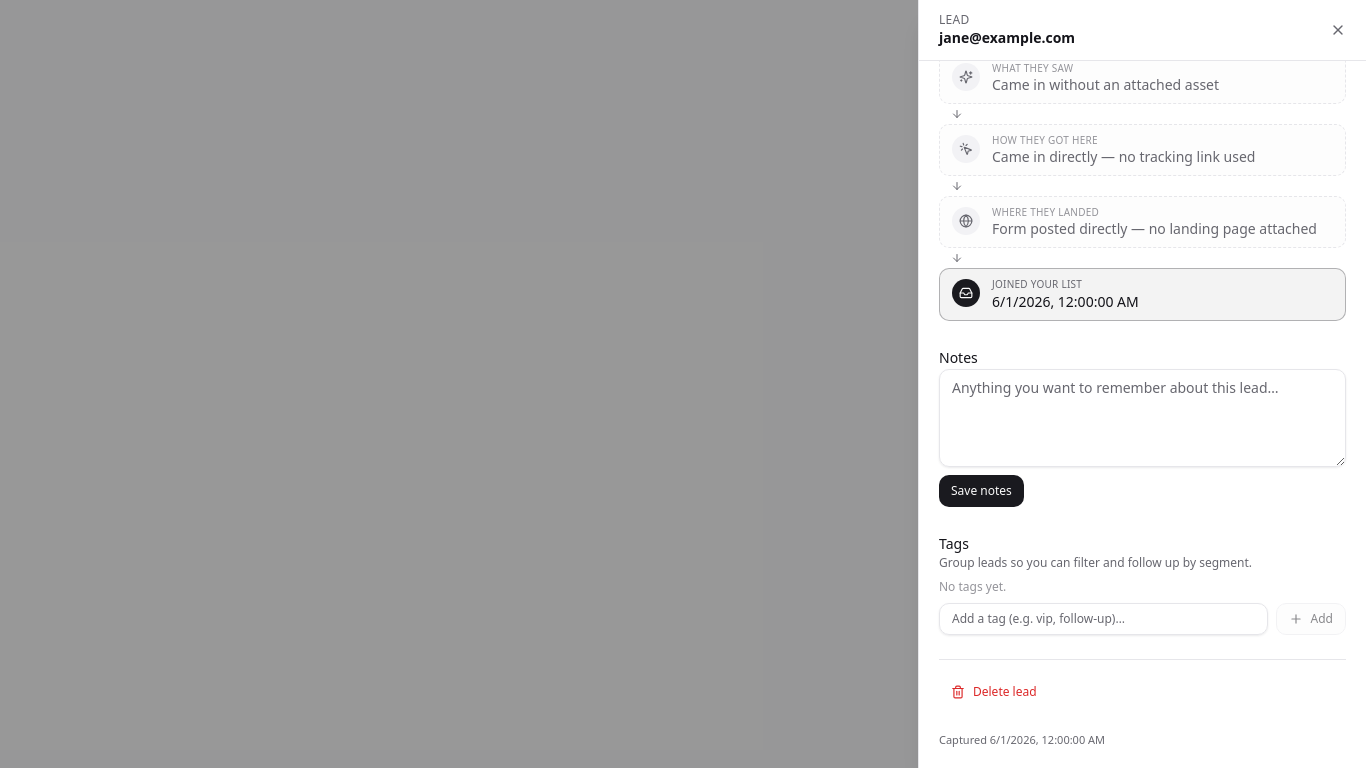
Test: LeadDrawer — tags › adds a tag (lowercased) and persists via api.leads.update
(page scrolled)
Type "VIP" into the field labelled "Tags" at point(1103, 619), box [939,603,1268,635]
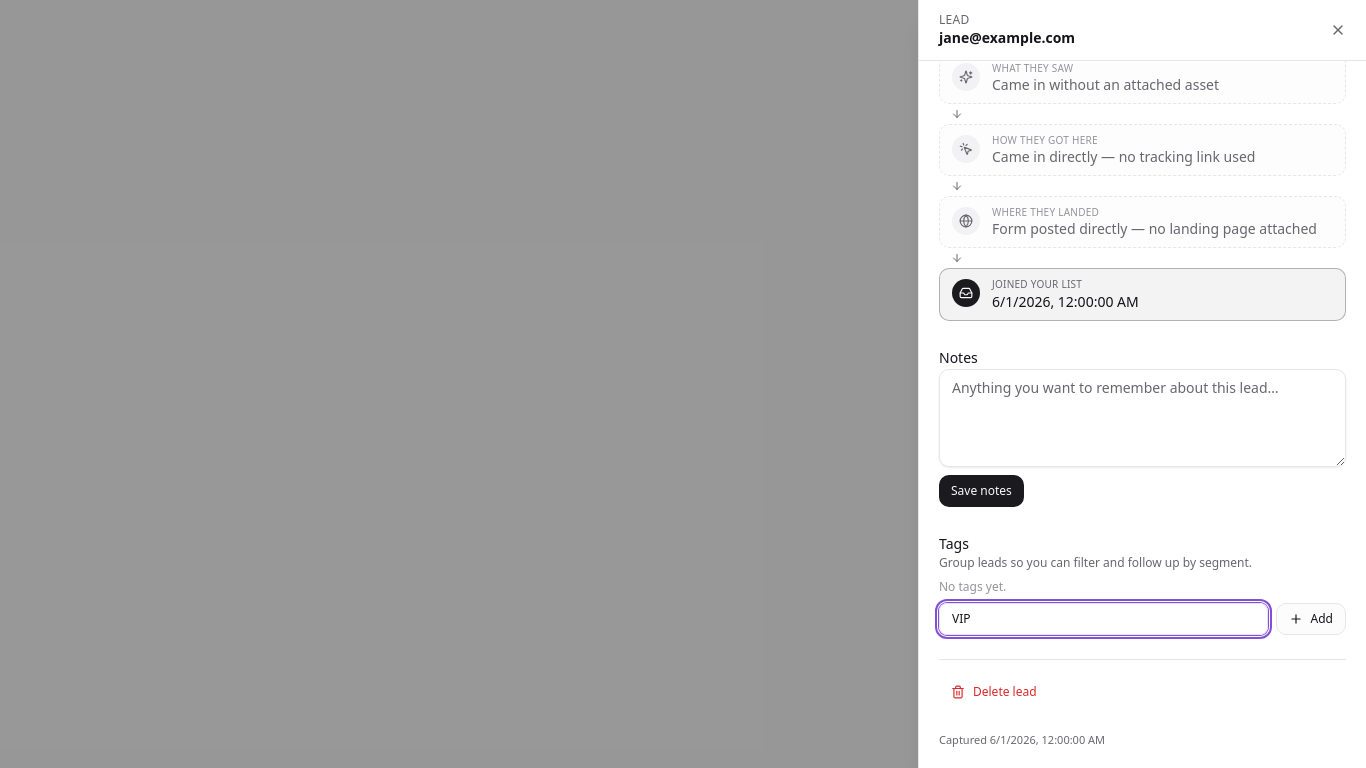
Click the button "Add" at point(1311, 619), box [1276,603,1346,635]
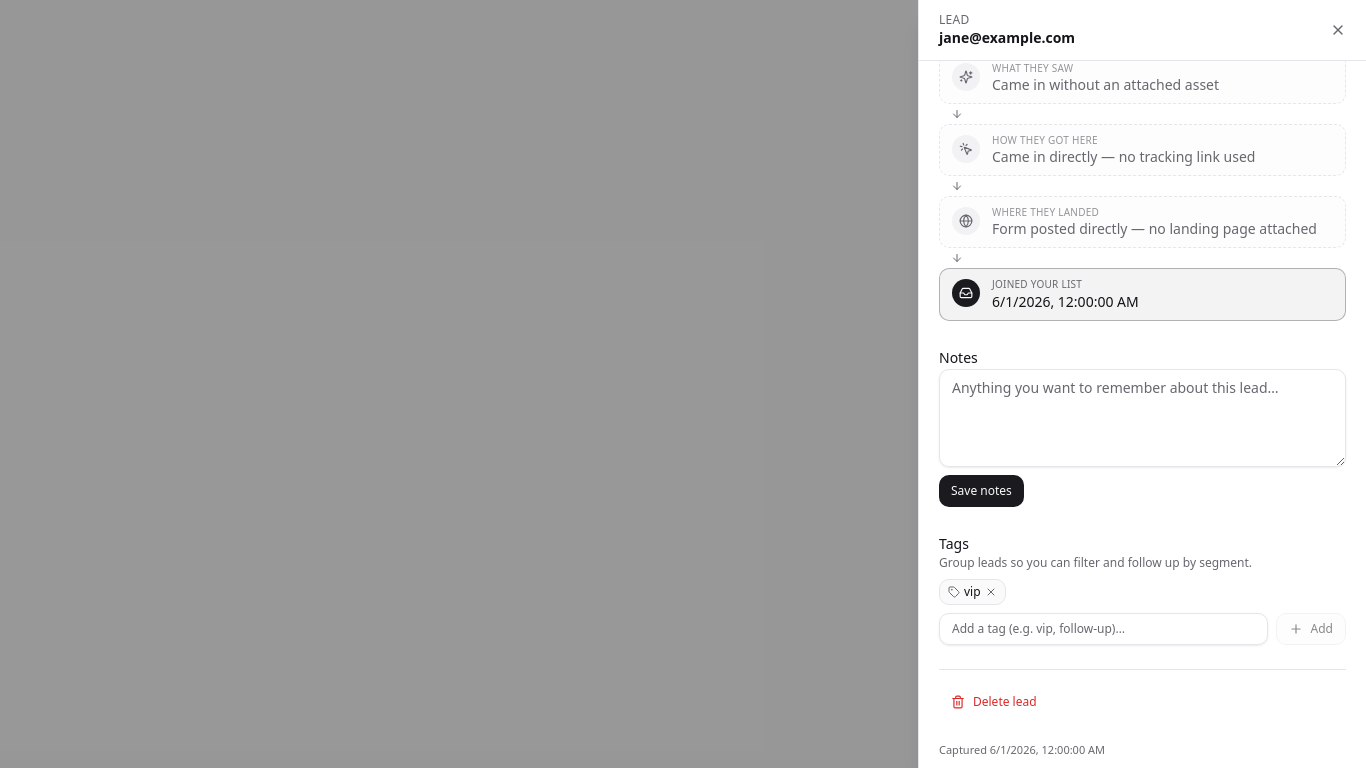
Expected: the element with test id "lead-tags" reads "vip", [964,583,981,600]
